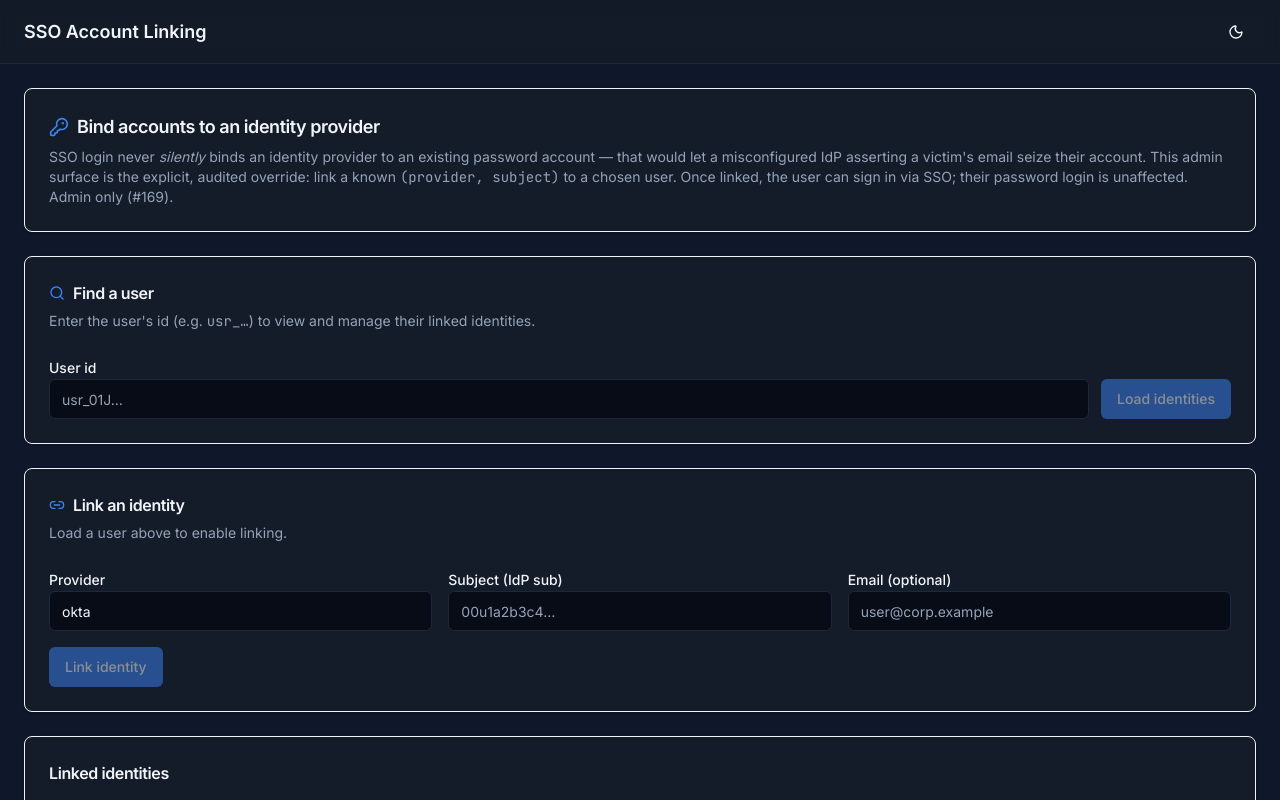
SSOIdentitiesPage › disables Load until a user id is entered, then lists identities
The width and height of the screenshot is (1280, 800).
Check: the button with test id "sso-identities-load-button" is disabled, box [1101,379,1231,419]
Type "usr_01XYZ" into the field with test id "sso-identities-user-input" at (569, 399), box [49,379,1089,419]
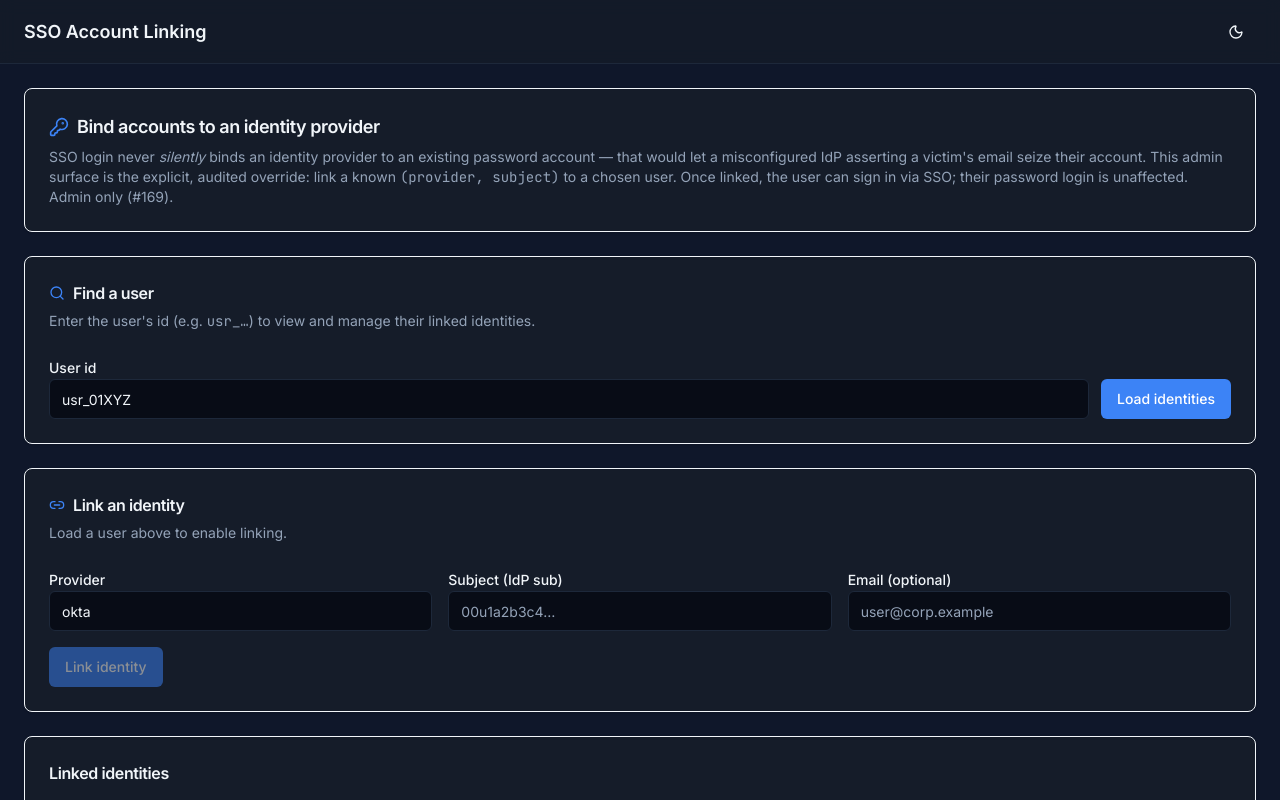
Check: the button with test id "sso-identities-load-button" is enabled
Click the button with test id "sso-identities-load-button" at (1166, 399), box [1101,379,1231,419]
(page scrolled)
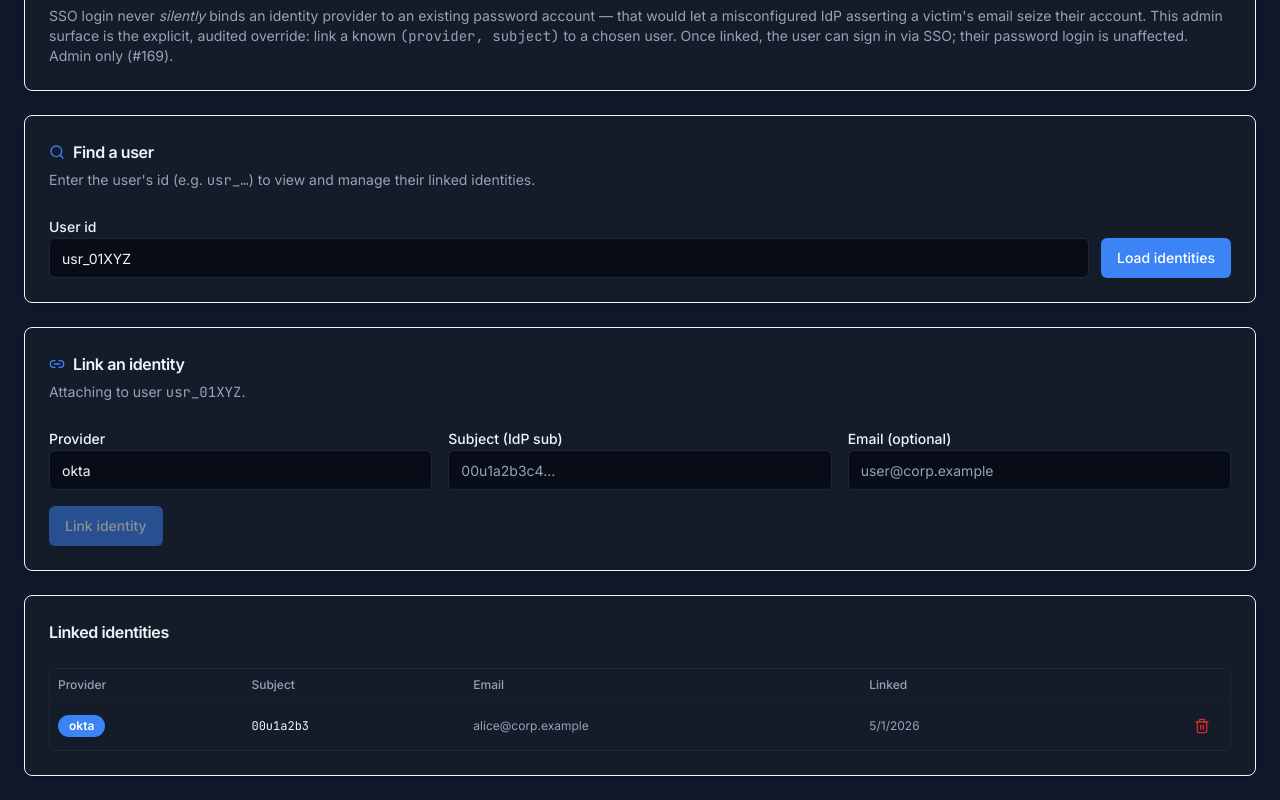
Check: the text "00u1a2b3" is shown, box [244,702,465,750]
Check: the text "alice@corp.example" is shown, box [465,702,861,750]
